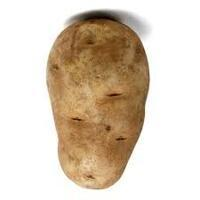biodegradable: (45, 18, 151, 190)
